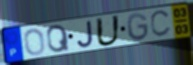C: (149, 8, 172, 38)
G: (125, 12, 150, 42)
J: (76, 20, 95, 49)
O: (23, 27, 47, 56)
Q: (45, 24, 71, 54)
U: (95, 14, 122, 48)
